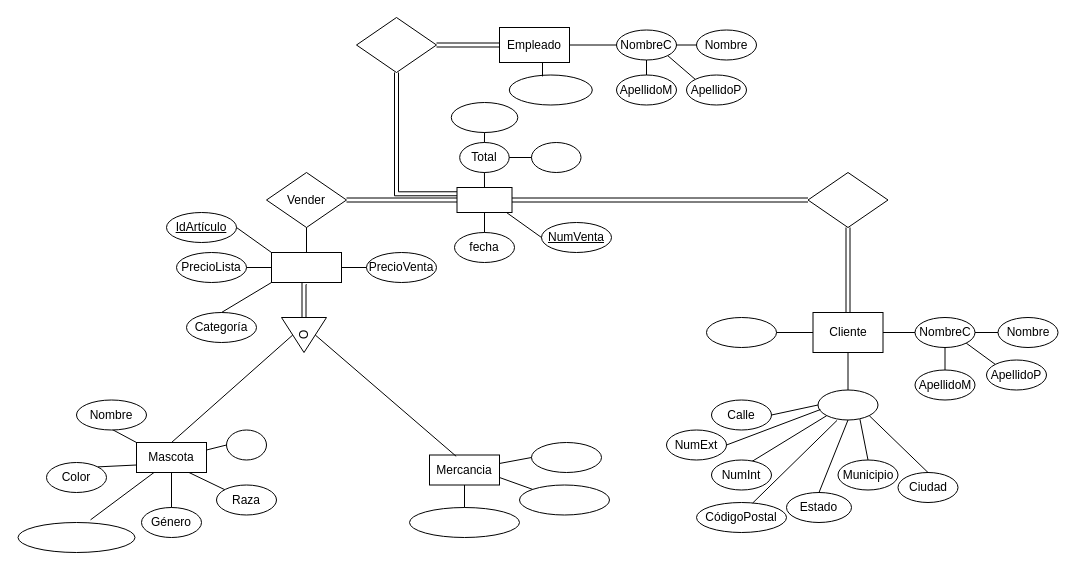
Some shapes in this 1075 by 570 pixel diagram are drawn without their labels. Here are the shapes that lost their labels. From the top down, the centre of each, then its label:
At (x=396, y=44): "Realizar".
At (x=550, y=89): "IdEmpleado".
At (x=484, y=117): "SubTotal".
At (x=555, y=157): "IVA".
At (x=484, y=199): "Venta".
At (x=847, y=200): "Adquirir".
At (x=306, y=267): "Artículo".
At (x=741, y=332): "IdCliente".
At (x=847, y=404): "Dirección".
At (x=246, y=444): "Id".
At (x=566, y=457): "Item".
At (x=564, y=499): "Descripción".
At (x=76, y=537): "FechaNacimiento".
At (x=464, y=522): "TotalProductos".
